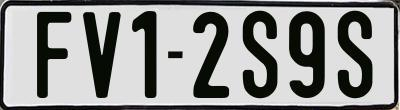1: (132, 9, 160, 100)
2: (193, 11, 233, 103)
9: (287, 9, 328, 100)
F: (34, 11, 68, 102)
S: (338, 8, 378, 99), (243, 11, 280, 103)
V: (82, 10, 122, 96)
